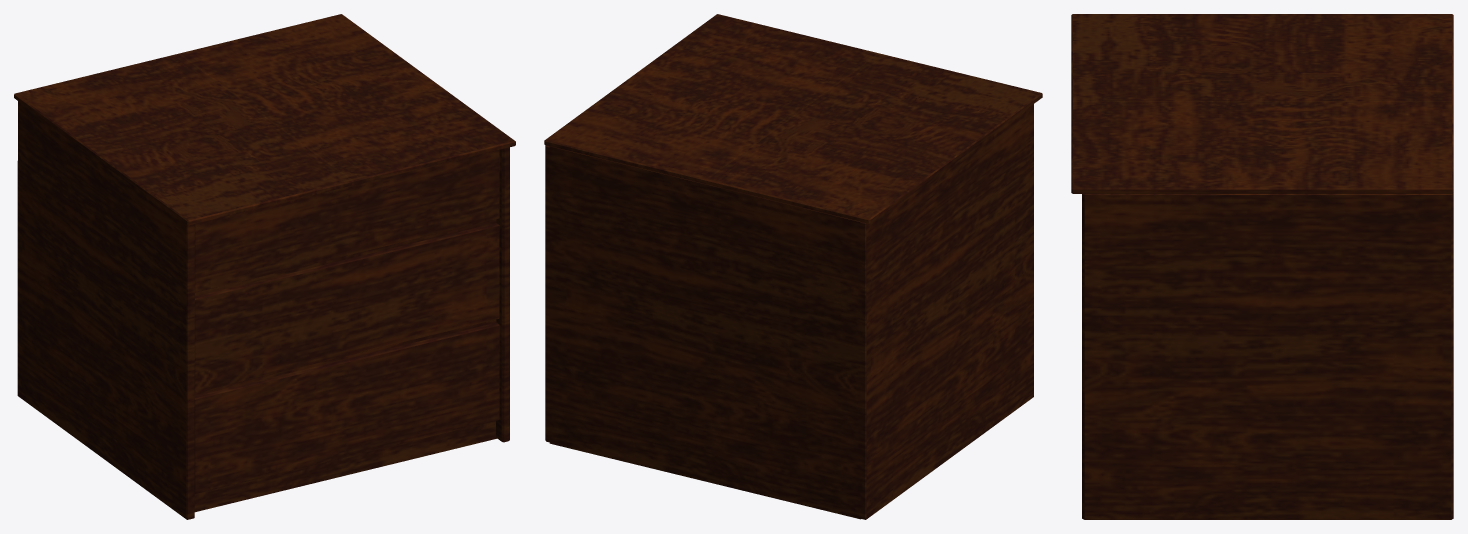
File: dresser_small.glb
3 renders of one model, left to right at view 1: azimuth 30°, elevation 25°; view 2: azimuth 150°, elevation 25°; view 3: azimuth 270°, elevation 25°, orthographic. The views are drawn at different scales.
Parts seen in each view (by area): view 1: dresser_318, dresser_drawer_318_3, dresser_drawer_318_2, dresser_drawer_318_1; view 2: dresser_318; view 3: dresser_318.
Boxes of the visible parts, box(x1,y1,x2,y2) form: dresser_318: box(14, 14, 515, 519); dresser_drawer_318_3: box(194, 322, 499, 493); dresser_drawer_318_2: box(194, 223, 499, 392); dresser_drawer_318_1: box(195, 150, 499, 292); dresser_318: box(544, 14, 1042, 519); dresser_318: box(1071, 14, 1453, 519).
Size of the model in its own units: 0.7554 by 0.6683 by 0.6965.
Materials: 1 (1 with a texture image).
